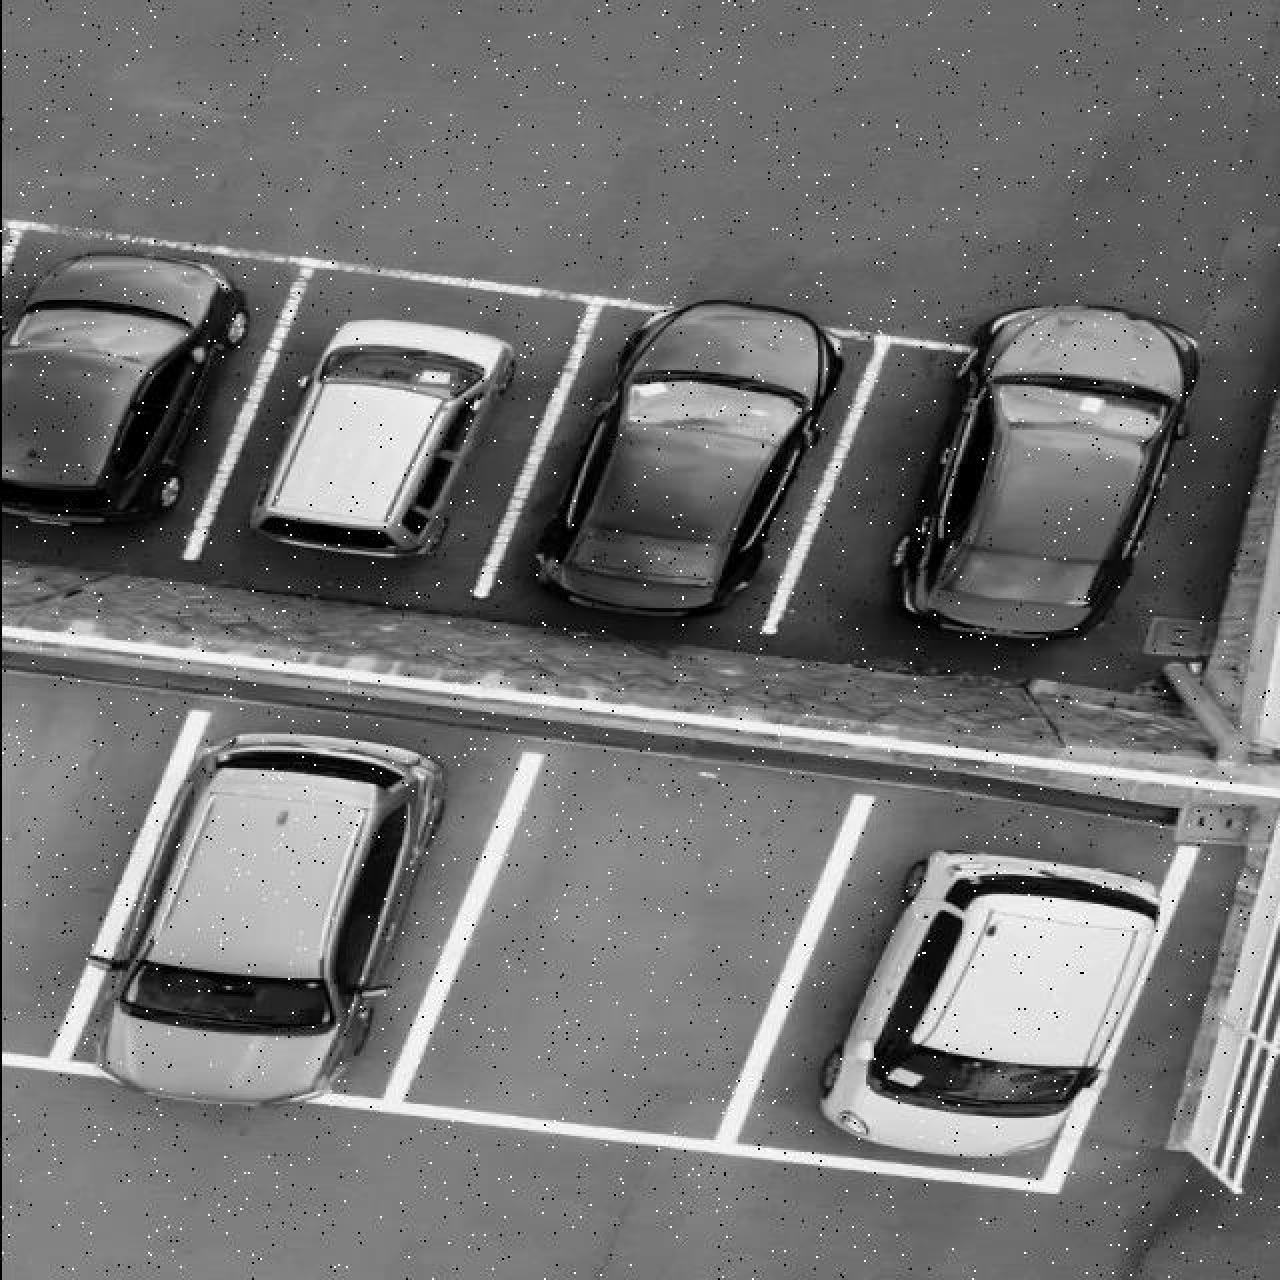car: (66, 728, 444, 1107), (816, 847, 1164, 1162), (888, 300, 1200, 642), (530, 298, 844, 617), (0, 248, 248, 526), (248, 316, 516, 560)
